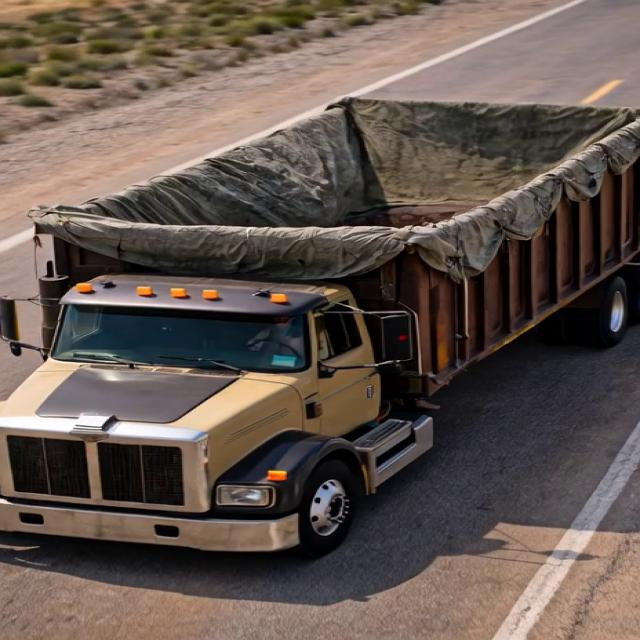Box: (32, 94, 631, 246)
Truck: (9, 64, 638, 549)
